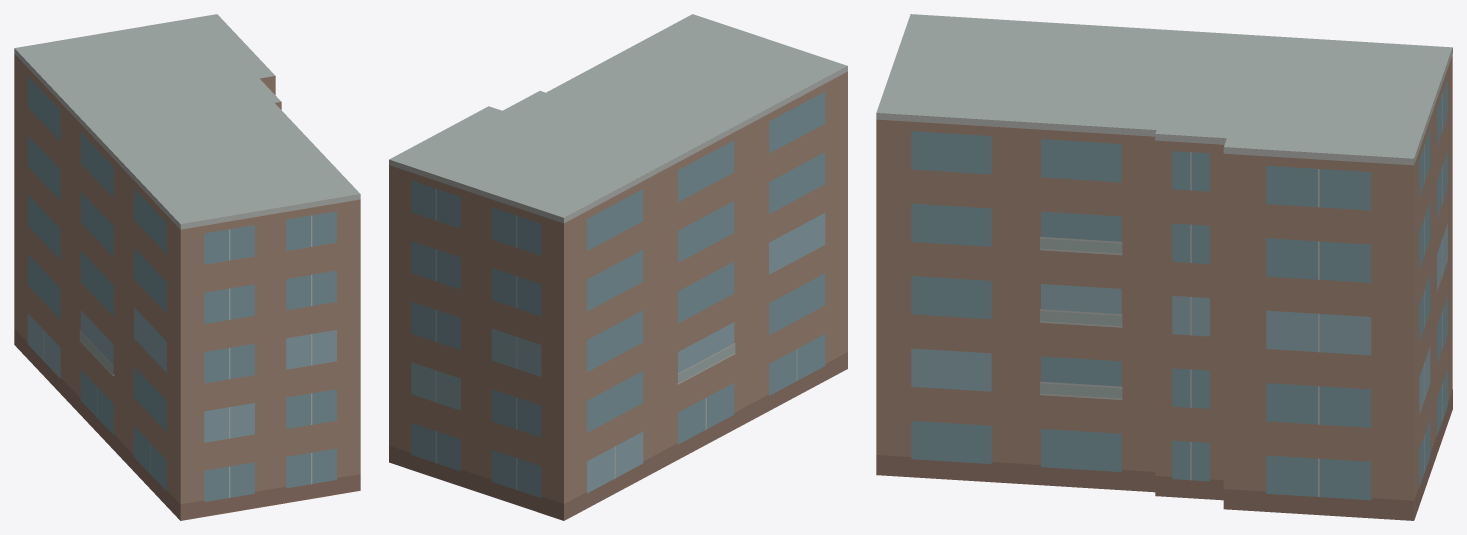
The model's file is survey-upis-32610645.glb.
3 views of the same model, side by side, from view 1: azimuth 30°, elevation 25°; view 2: azimuth 150°, elevation 25°; view 3: azimuth 270°, elevation 25° (orthographic). The views are drawn at different scales.
Parts seen in each view (by area): view 1: survey-upis-32610645.tmp; view 2: survey-upis-32610645.tmp; view 3: survey-upis-32610645.tmp.
Boxes of the visible parts, bbox=[...] form: survey-upis-32610645.tmp: bbox=[14, 14, 360, 520]; survey-upis-32610645.tmp: bbox=[389, 14, 847, 520]; survey-upis-32610645.tmp: bbox=[876, 14, 1452, 520].
Size of the model in its own units: 11.41 by 13.3 by 19.2.
